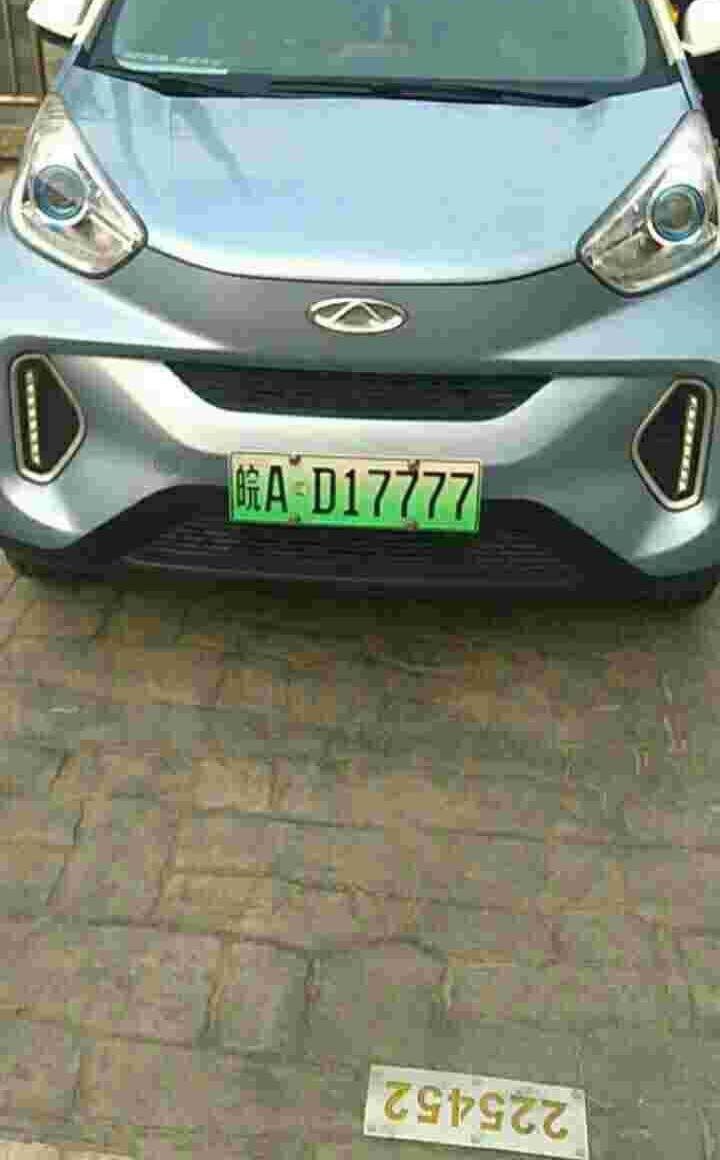car: (225, 450, 496, 541)
